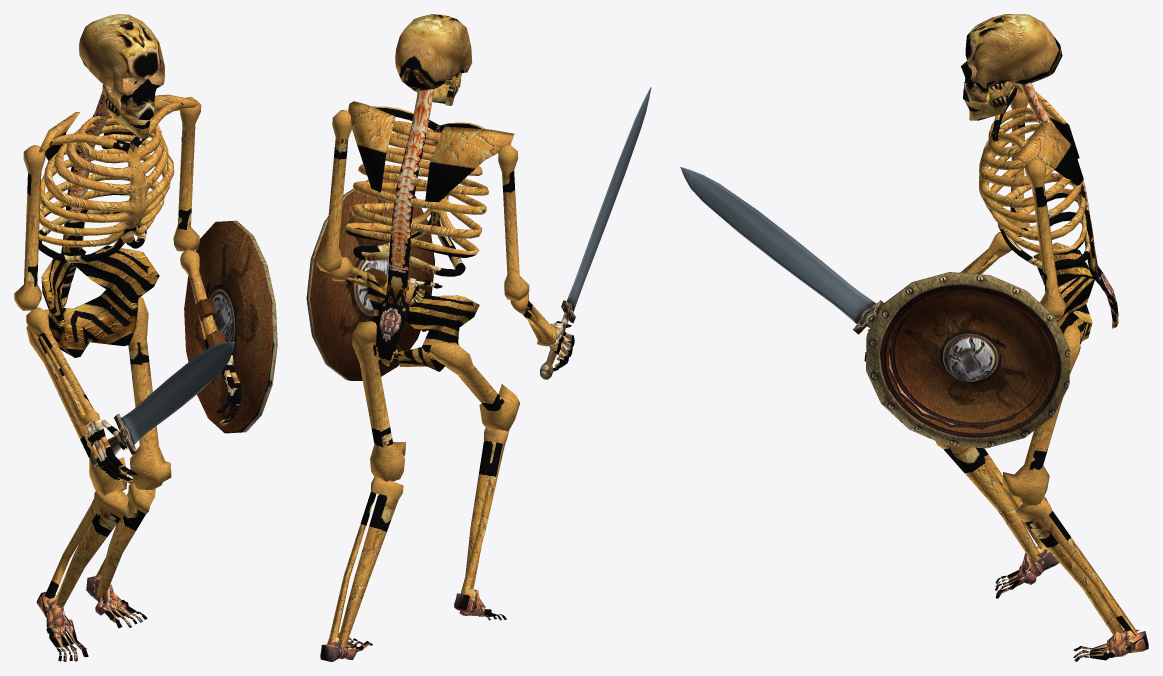
The model's file is Skeleton_000014.obj.
3 renders of one model, left to right at view 1: azimuth 30°, elevation 25°; view 2: azimuth 150°, elevation 25°; view 3: azimuth 270°, elevation 25°, orthographic. The views are drawn at different scales.
Visible parts, largest first — view 1: Costillar, Shield_Shield.001, Coxis, Skull, Tibia, Femur, Humero, Sword, Radio, Feet, Hands, Omoplato (+1 smaller); view 2: Costillar, Shield_Shield.001, Tibia, Femur, Omoplato, Humero, Skull, Coxis, Sword, Radio, Feet, Hands (+1 smaller); view 3: Shield_Shield.001, Costillar, Tibia, Sword, Skull, Humero, Femur, Omoplato, Feet, Coxis, Mandibula, Radio.
Part boxes in pixels (x1,y1,x2,y2): Costillar: (38,87,183,307); Shield_Shield.001: (184,220,277,433); Coxis: (41,245,159,357); Skull: (78,14,164,119); Tibia: (45,482,155,606); Femur: (26,297,171,497); Humero: (14,96,201,310); Sword: (90,342,234,468); Radio: (26,249,218,426); Feet: (36,575,147,661); Hands: (86,355,241,483); Omoplato: (39,94,199,165); Costillar: (345,89,488,366); Shield_Shield.001: (306,180,434,380); Tibia: (328,427,508,647); Femur: (352,321,519,481); Omoplato: (347,101,514,202); Humero: (315,110,529,300); Skull: (395,14,472,91); Coxis: (367,273,479,371); Sword: (540,87,651,379); Radio: (330,257,557,346); Feet: (320,589,506,661); Hands: (408,277,574,371); Shield_Shield.001: (866,272,1070,448); Costillar: (979,83,1118,328); Tibia: (935,441,1136,635); Sword: (680,167,883,334); Skull: (961,14,1062,102); Humero: (1010,92,1066,320); Femur: (1002,325,1080,505); Omoplato: (1013,82,1083,185); Feet: (995,546,1148,661); Coxis: (1033,242,1094,344); Mandibula: (964,80,1013,120); Radio: (960,232,1011,274).
Bounding box in the file's own units: 2.86 × 8.47 × 5.8.
Materials: 5 (5 with a texture image).
